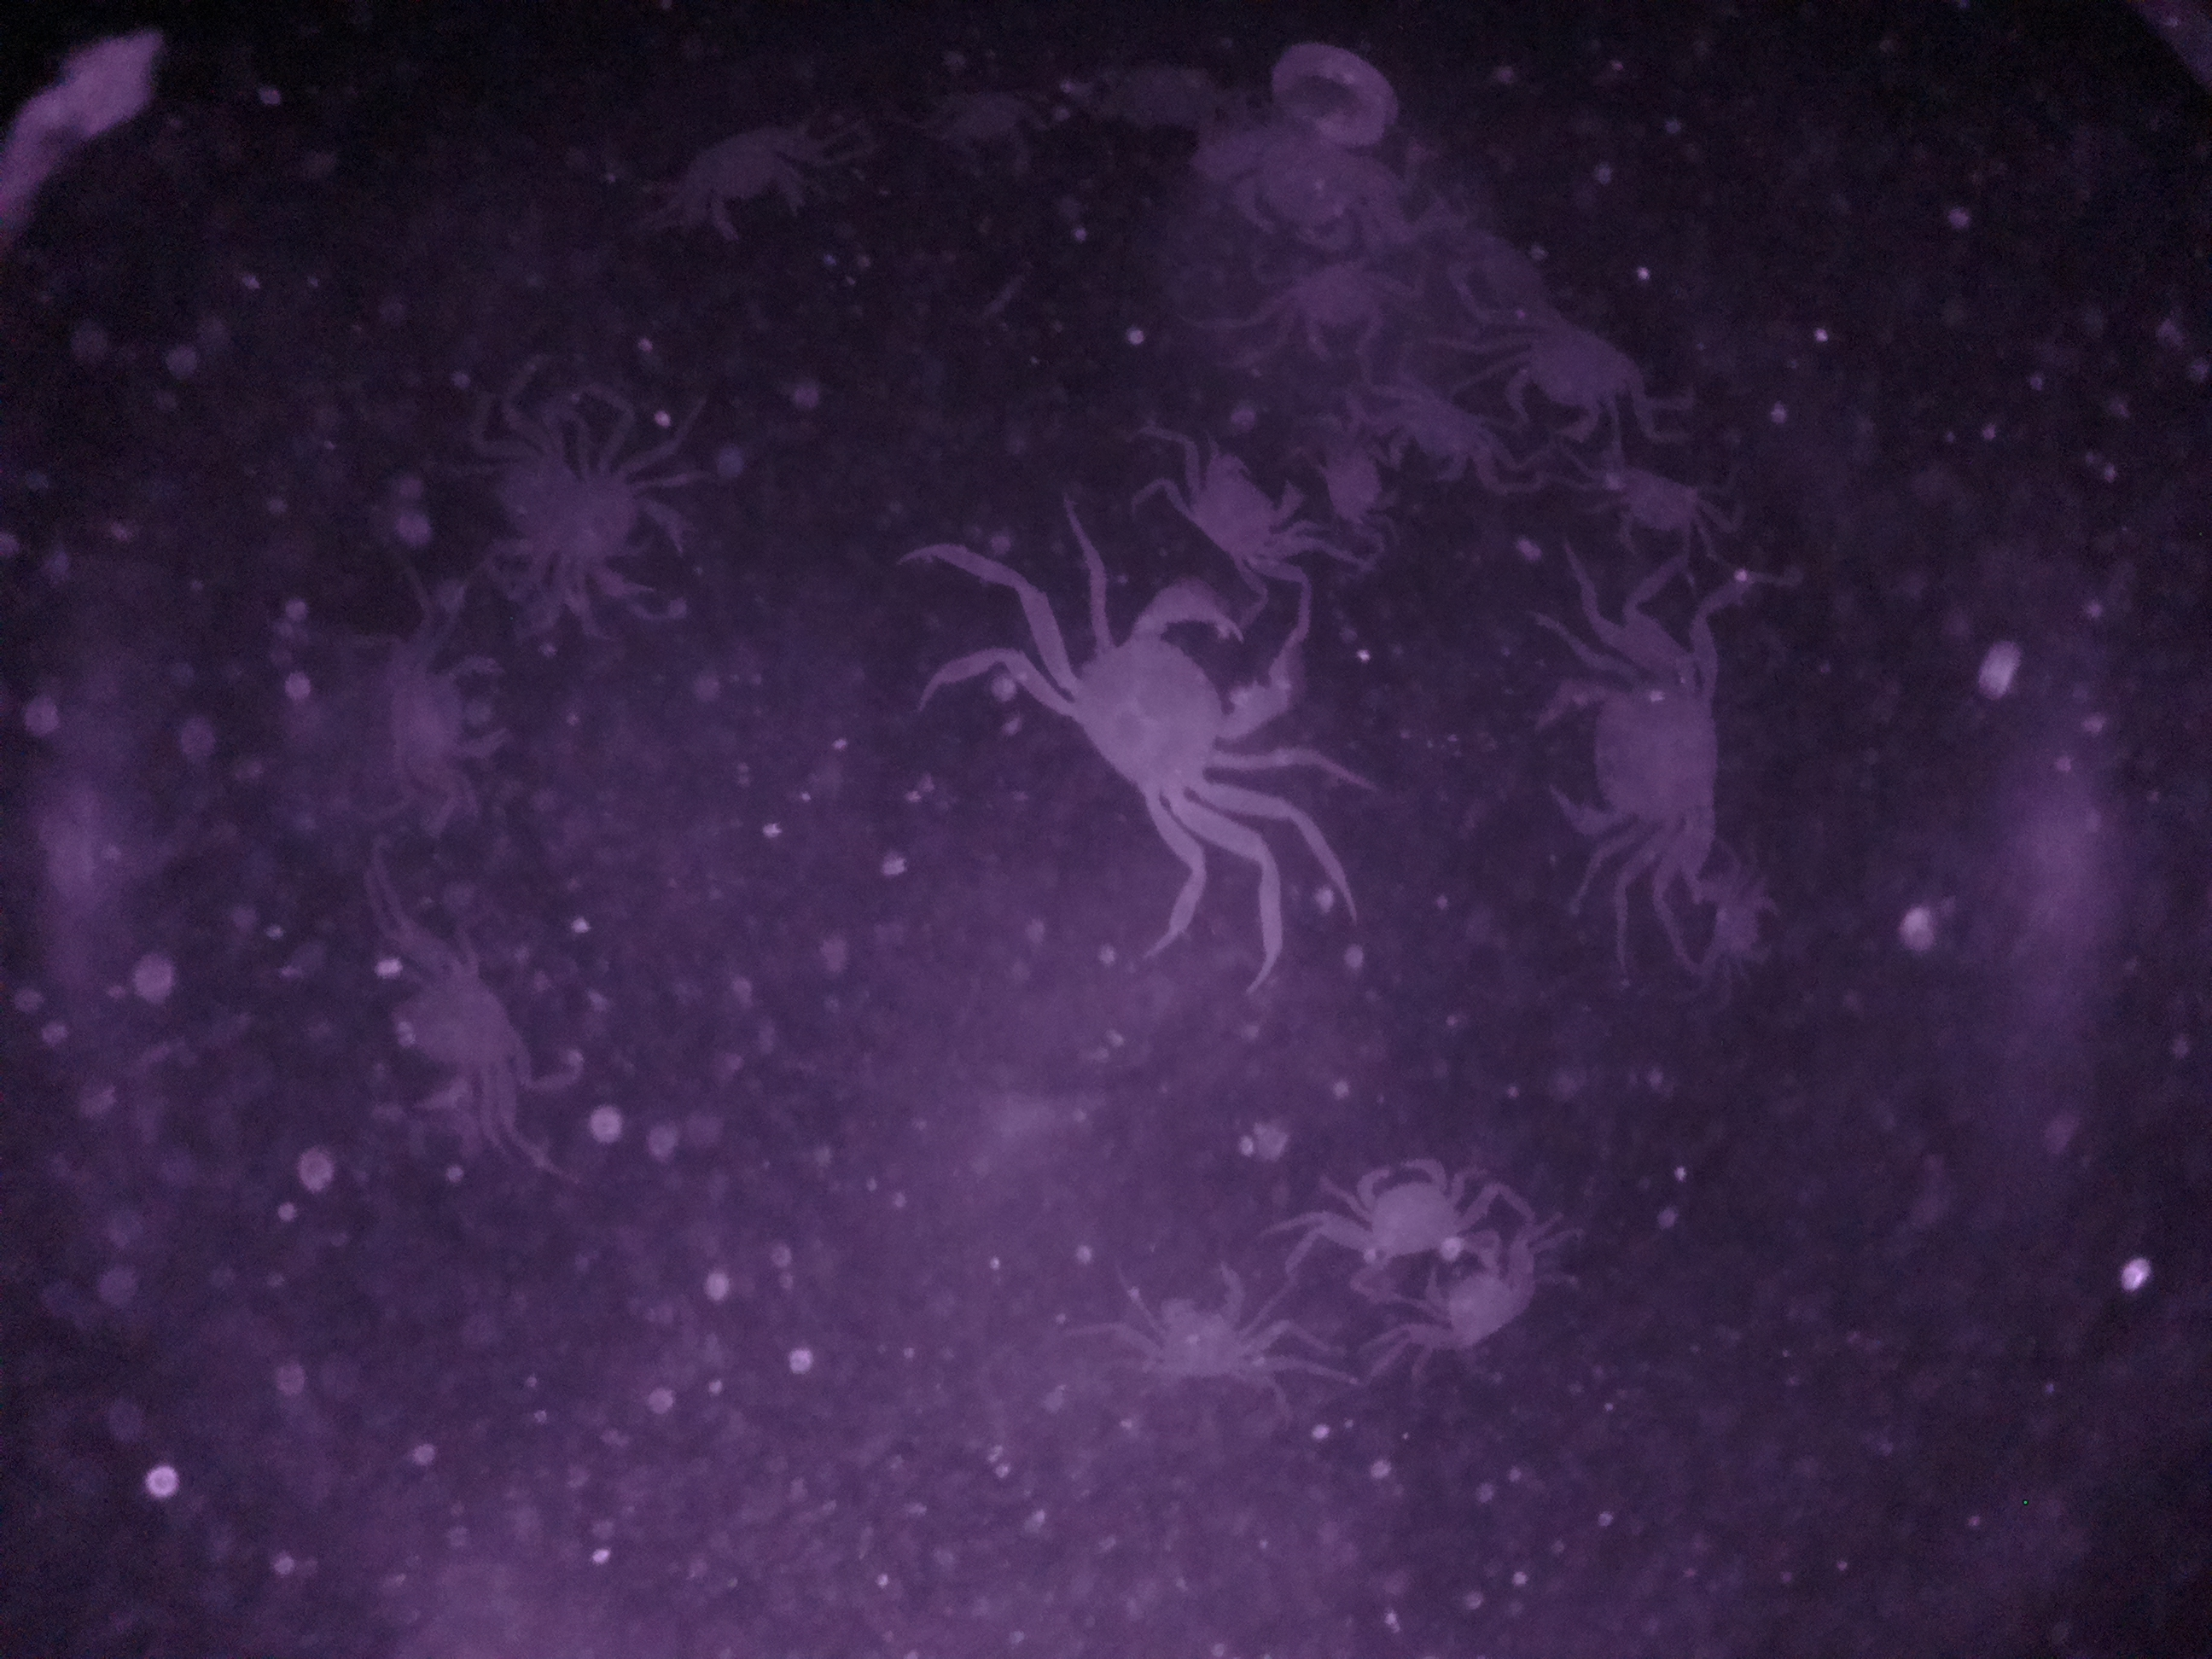Crab: (1005, 582, 1317, 873), (1531, 633, 1738, 880), (1472, 303, 1662, 453), (1153, 416, 1303, 579), (1312, 1148, 1498, 1274)
